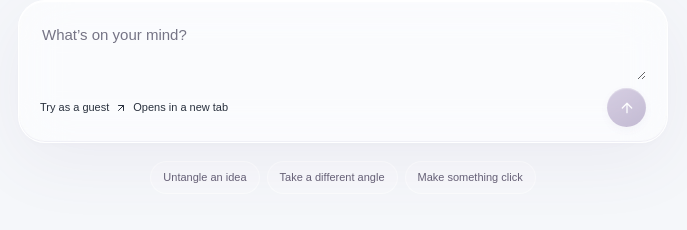
Test case: new-tab guest entry › keeps the draft and explains blocked popups
Click the button "Untangle an idea" at (205, 177), box x1=150 y1=161 x2=260 y2=194
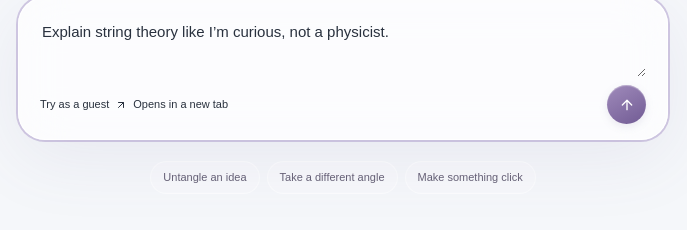
Submit the form
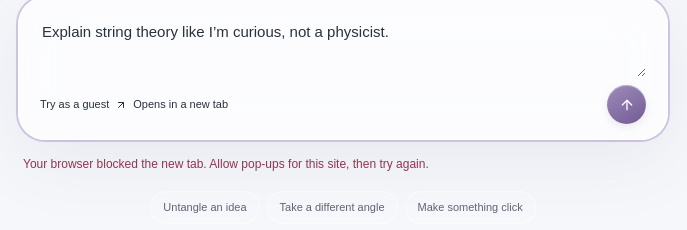
Expected: the message "Your browser blocked the new tab. Allow pop-ups for this site, then try again." is shown, x1=23 y1=157 x2=429 y2=171
